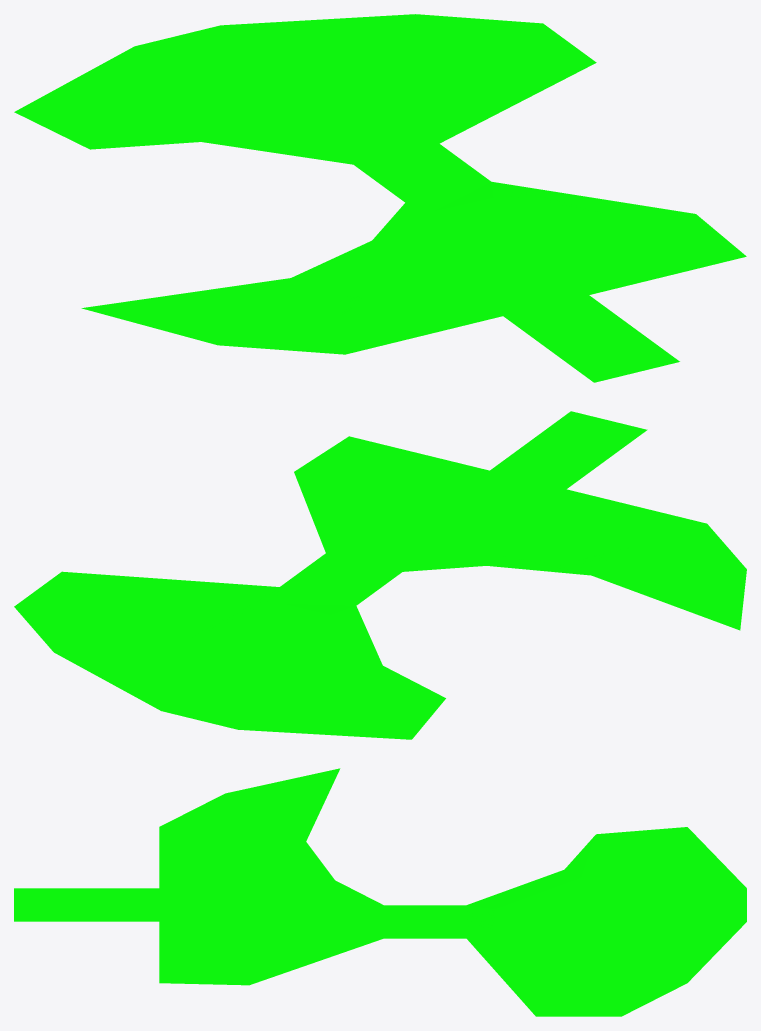
The model's file is s05a_nb2-floor.glb.
3 views of the same model, one above another, from view 1: azimuth 30°, elevation 25°; view 2: azimuth 150°, elevation 25°; view 3: azimuth 270°, elevation 25° (orthographic). The views are drawn at different scales.
Parts seen in each view (by area): view 1: collision_floor-colonly; view 2: collision_floor-colonly; view 3: collision_floor-colonly.
Boxes of the visible parts, x1,y1,x2,y2 form: collision_floor-colonly: (14,14,746,382); collision_floor-colonly: (14,411,746,739); collision_floor-colonly: (14,768,746,1016).
Size of the model in its own units: 44.51 by 0.00781 by 55.5.
